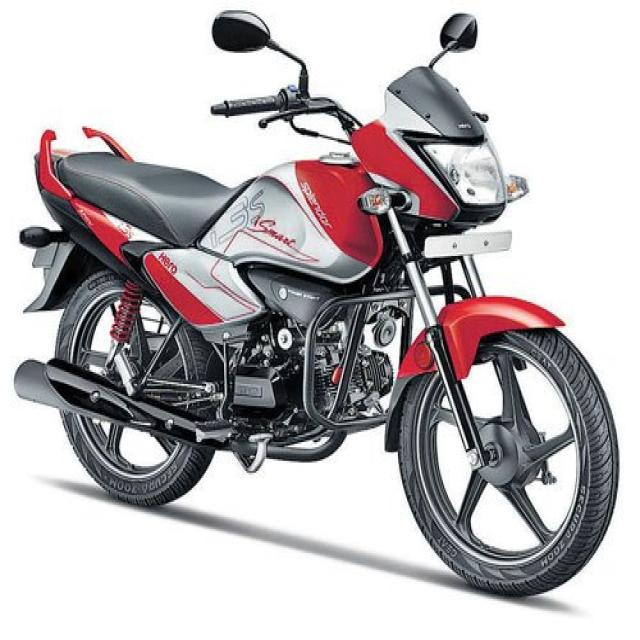bike: (8, 9, 632, 606)
